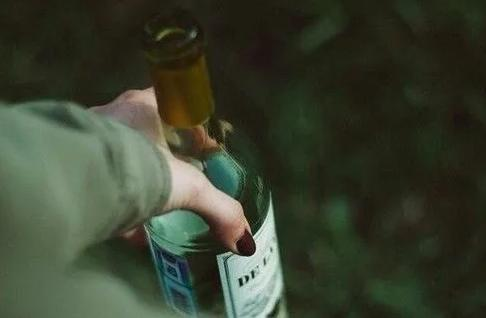wine bottle: (134, 7, 291, 318)
wine label: (216, 194, 285, 318)
